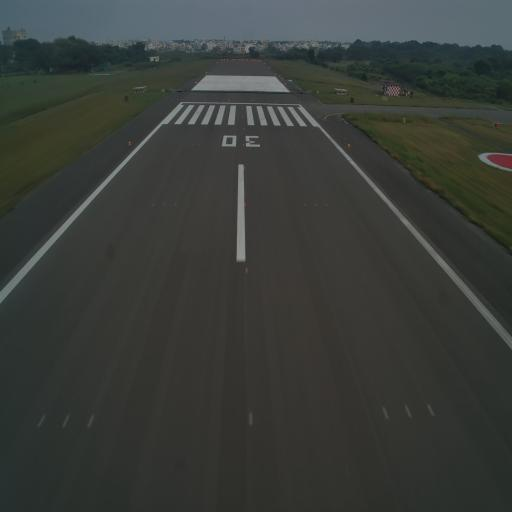off: (35, 408, 48, 428), (381, 402, 392, 424), (86, 409, 96, 431), (60, 410, 70, 428), (426, 400, 436, 418), (404, 402, 412, 421), (174, 199, 178, 209), (162, 199, 166, 208), (314, 200, 318, 208), (151, 202, 156, 208), (304, 200, 307, 208), (324, 200, 328, 206)
on: (244, 266, 249, 274), (242, 200, 246, 208)
